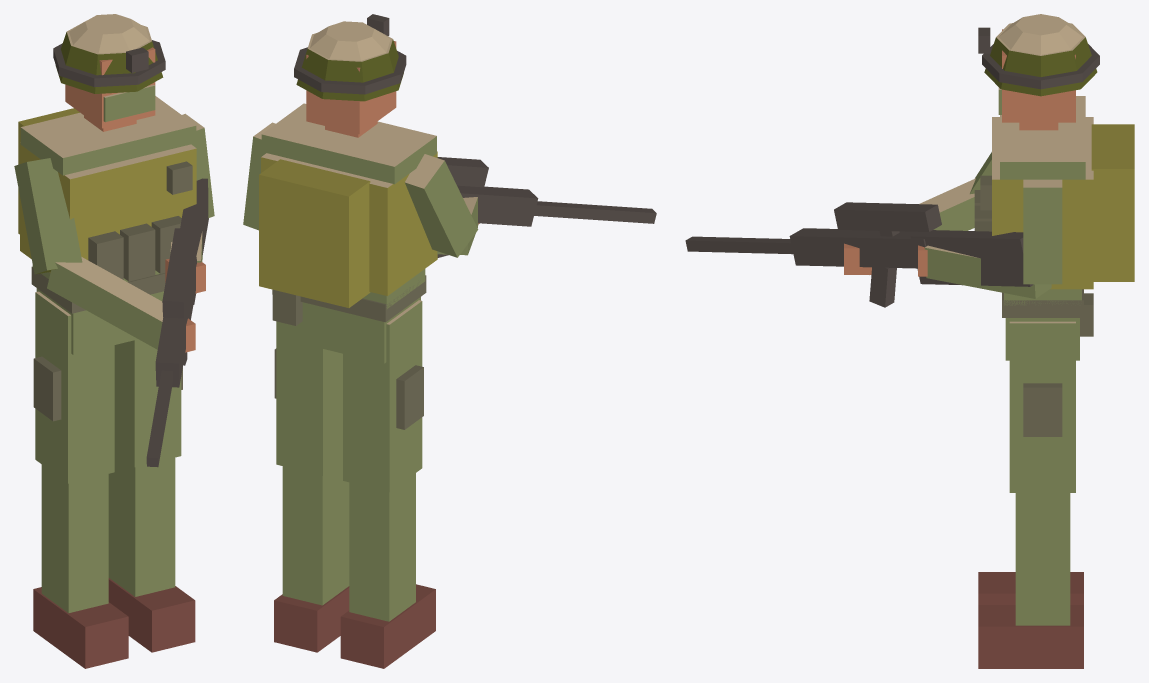
The model's file is SM_SoldadoArmado_v4_G28_Reposo_LOD0.fbx.
The picture shows the model from 3 angles, left to right: view 1: azimuth 30°, elevation 25°; view 2: azimuth 150°, elevation 25°; view 3: azimuth 270°, elevation 25°; orthographic projection.
Parts seen in each view (by area): view 1: SM_bloques.soldado_armado_v4_LOD0; view 2: SM_bloques.soldado_armado_v4_LOD0; view 3: SM_bloques.soldado_armado_v4_LOD0.
Part boxes in pixels (bbox=[...]): SM_bloques.soldado_armado_v4_LOD0: bbox=[14, 14, 214, 668]; SM_bloques.soldado_armado_v4_LOD0: bbox=[243, 14, 656, 668]; SM_bloques.soldado_armado_v4_LOD0: bbox=[685, 14, 1134, 668].
Bounding box in the file's own units: 0.6939 × 1.75 × 1.15.
